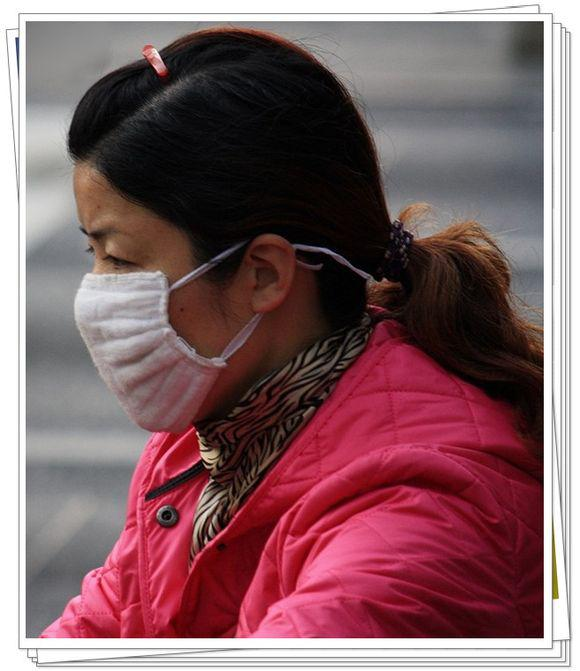OK: (75, 214, 278, 430)
